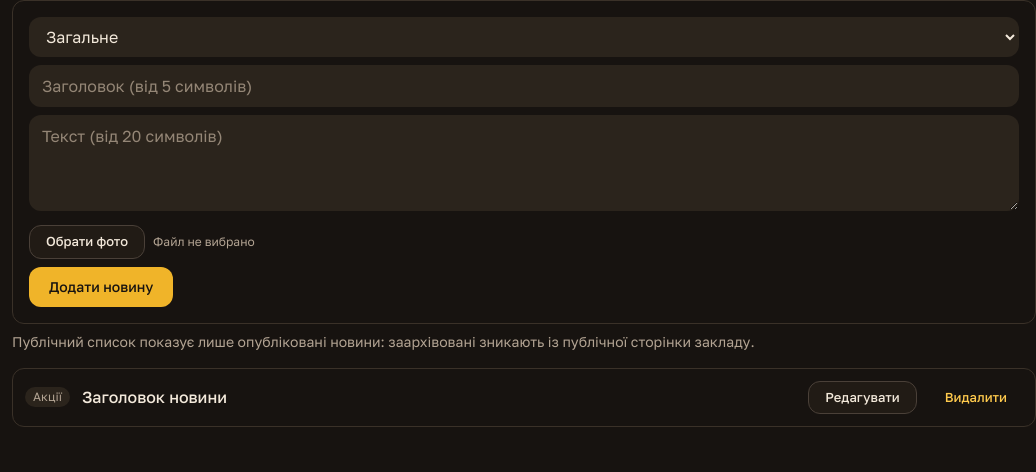
Test: VenueNewsManager › title <5 / content <20 → інлайн-помилка без POST
Type "коро" into the field named "Заголовок новини" at (524, 86), box [29, 65, 1019, 107]
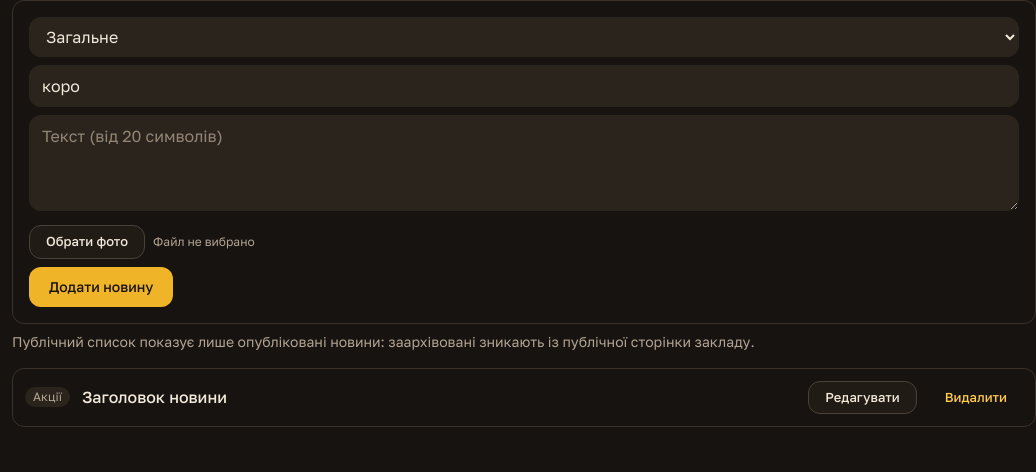
Type "Замало" into the text box named "Текст новини" at (524, 163), box [29, 115, 1019, 211]
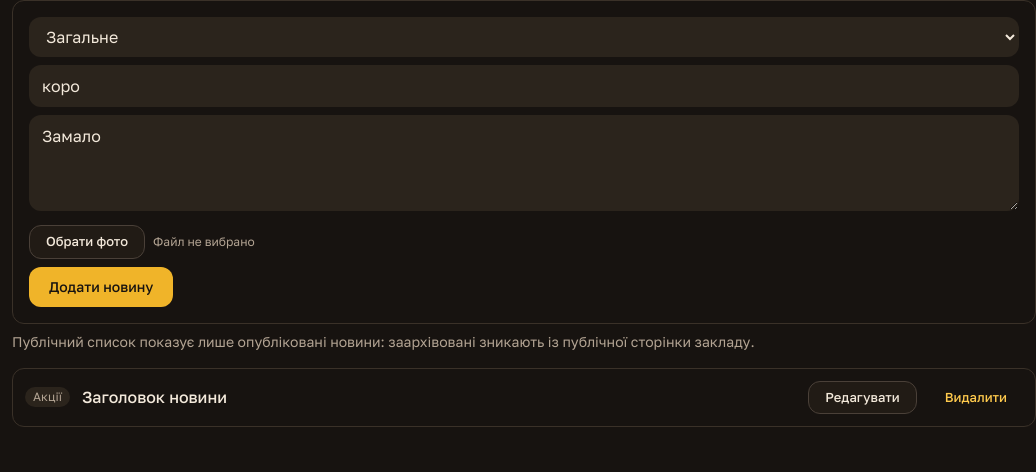
Click the button "Додати новину" at (101, 286), box [29, 266, 173, 306]
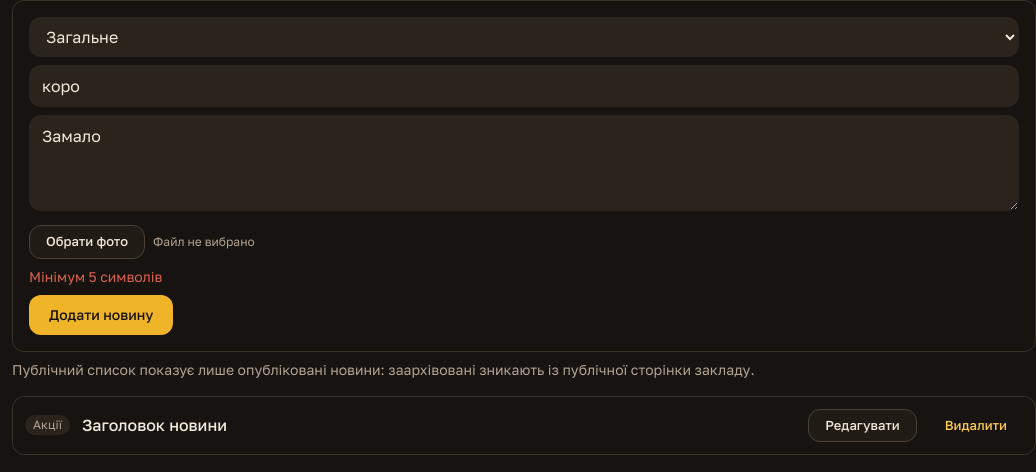
Expected: the message shows "символів", [29, 268, 162, 284]
